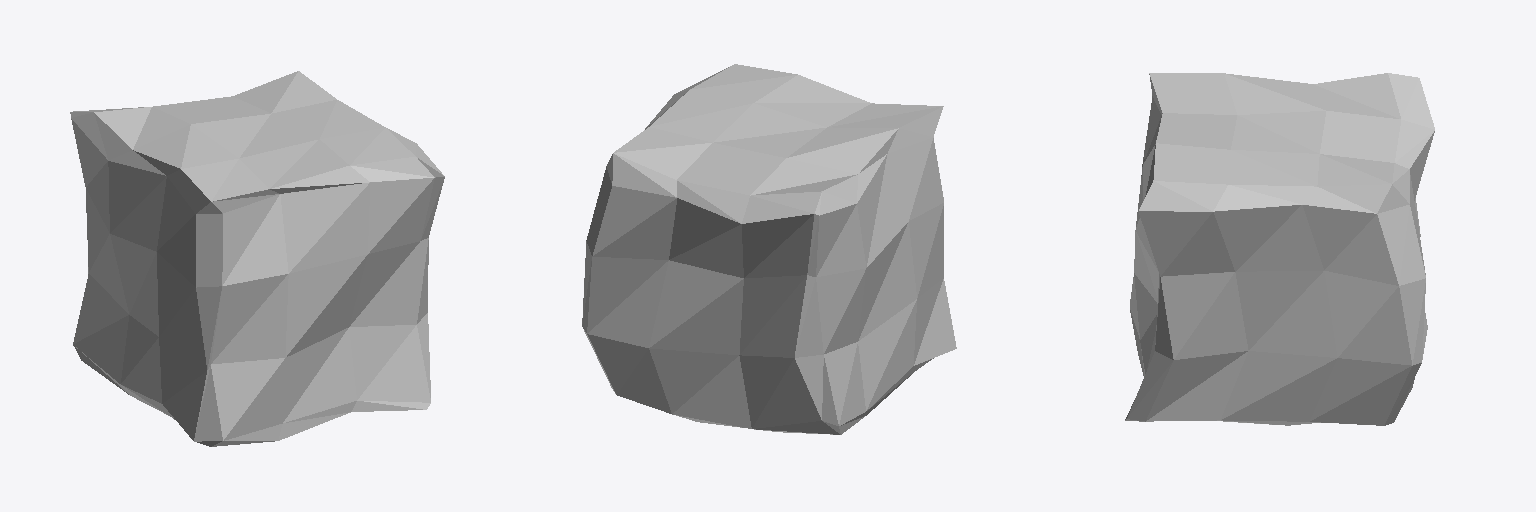
Rendered from Hielo 1.obj.
The picture shows the model from 3 angles: view 1: azimuth 30°, elevation 25°; view 2: azimuth 150°, elevation 25°; view 3: azimuth 270°, elevation 25°; orthographic projection.
Visible parts, largest first — view 1: Object008; view 2: Object008; view 3: Object008.
Boxes of the visible parts, <box> form: Object008: <box>70,71,444,446</box>; Object008: <box>582,64,956,434</box>; Object008: <box>1125,73,1434,425</box>.
Size of the model in its own units: 43.25 by 43.11 by 45.83.